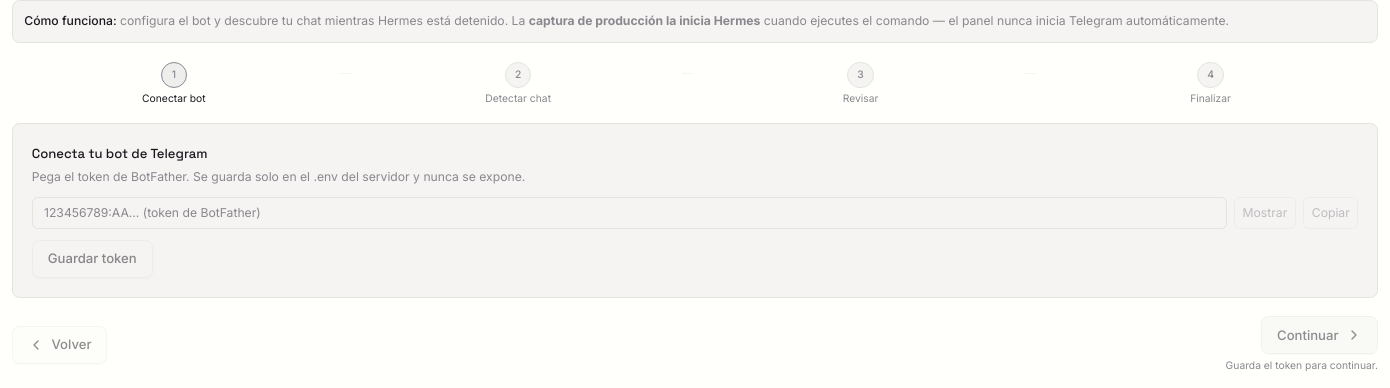
Test: IdeaCapturePanel — Conectar bot (token) › masks the token input by default and only reveals while editing
The width and height of the screenshot is (1390, 388).
Expected: the button "Mostrar" is disabled, [1234,197,1296,229]
Expected: the button "Copiar" is disabled, [1303,197,1358,229]
Type "123:AA" into the password field named "Token del bot" at (629, 213), box [32,197,1227,229]
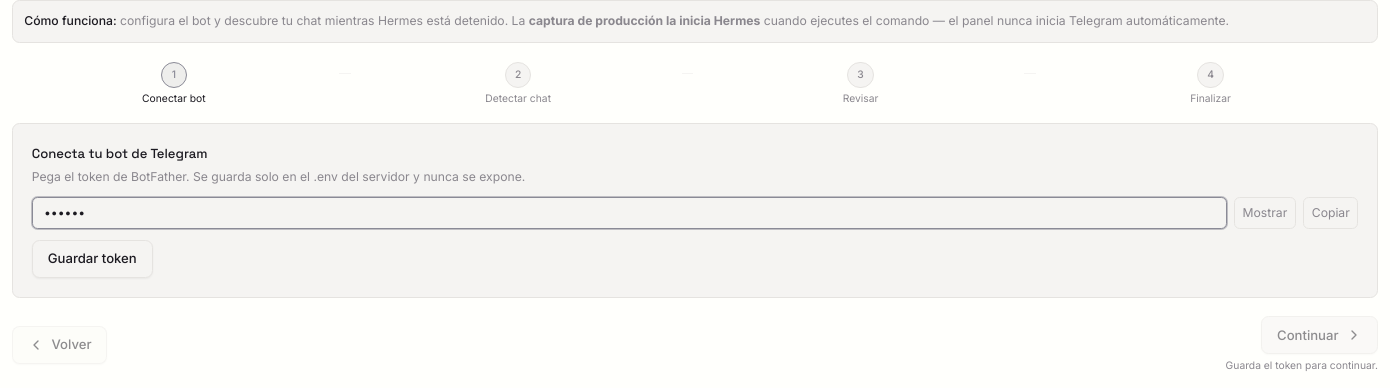
Result: the button "Mostrar" is enabled
Click the button "Mostrar" at (1265, 213), box [1234,197,1296,229]
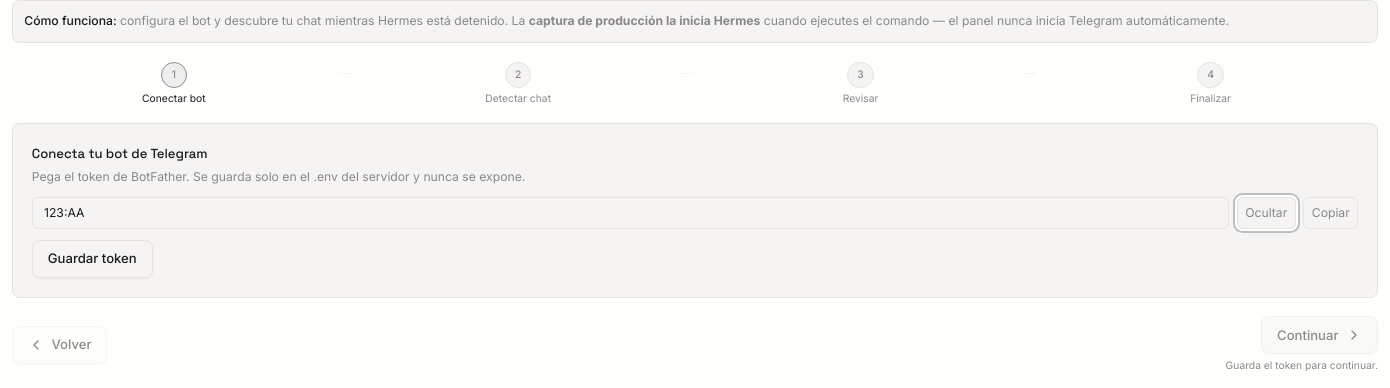
Result: the field named "Token del bot" shows its text at [32,197,1229,229]
Click the button "Ocultar" at (1266, 213), box [1237,197,1296,229]
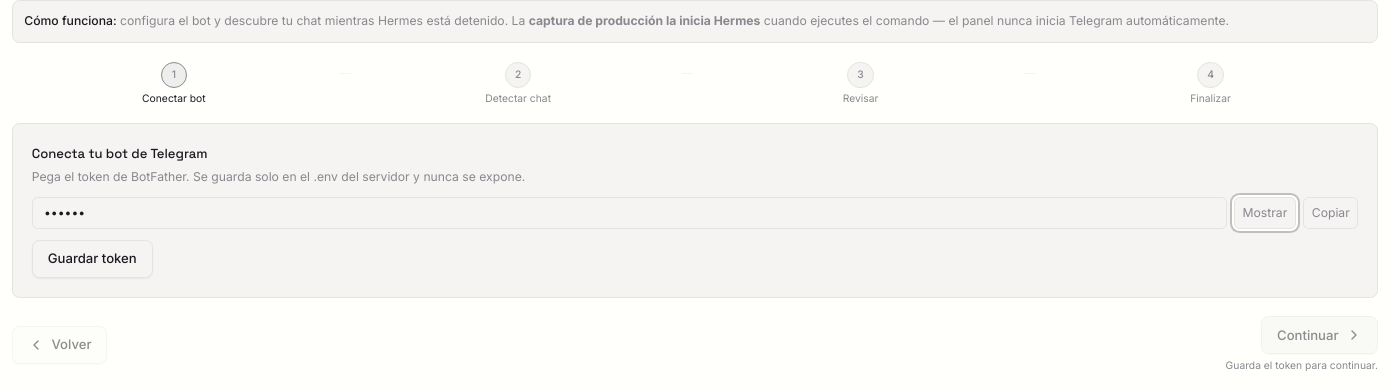
Result: the password field named "Token del bot" hides its text at [32,197,1227,229]
